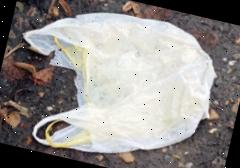plastic: (0, 0, 227, 168)
